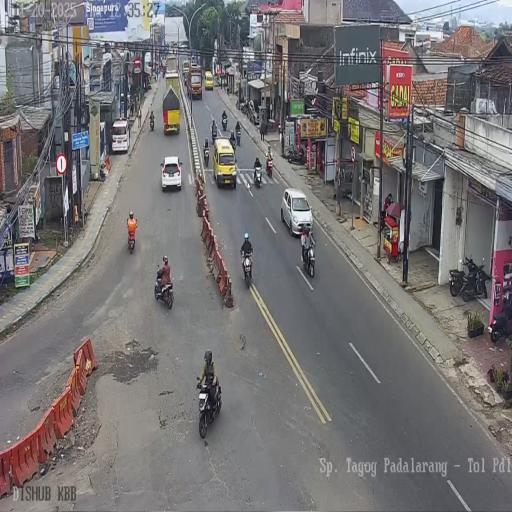car: (280, 187, 312, 237), (212, 138, 237, 188), (160, 155, 182, 192), (110, 119, 130, 155), (120, 89, 131, 114), (204, 70, 214, 90), (182, 60, 190, 77)
motorcycle: (196, 374, 222, 440), (461, 254, 488, 302), (489, 300, 511, 342), (154, 272, 174, 310), (301, 233, 315, 278), (240, 252, 253, 289), (286, 144, 305, 166), (127, 222, 136, 252), (254, 163, 262, 188), (203, 142, 210, 166), (266, 155, 273, 178), (240, 99, 249, 115), (230, 135, 236, 155), (221, 114, 228, 131), (211, 122, 217, 141), (236, 124, 241, 144), (149, 115, 155, 131), (235, 99, 240, 111), (278, 122, 282, 136), (162, 66, 166, 78)
truck: (162, 85, 180, 135), (188, 67, 203, 99), (167, 56, 178, 74)
